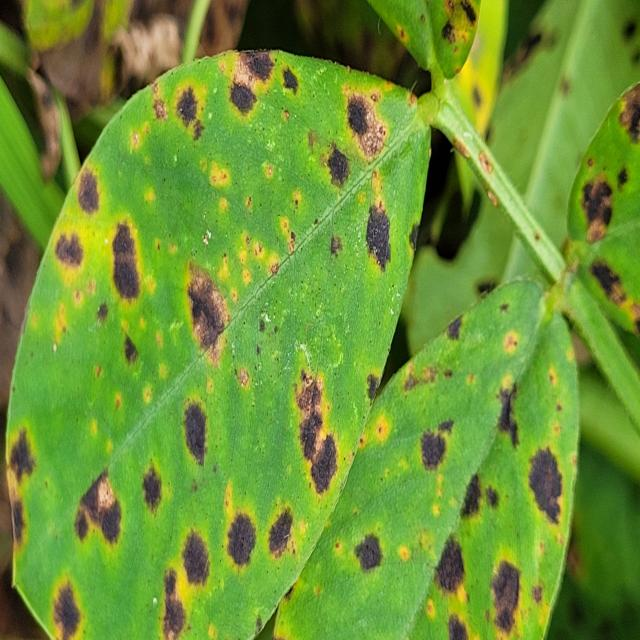Ground nut_tikka leaf spot: (6, 31, 428, 640)
